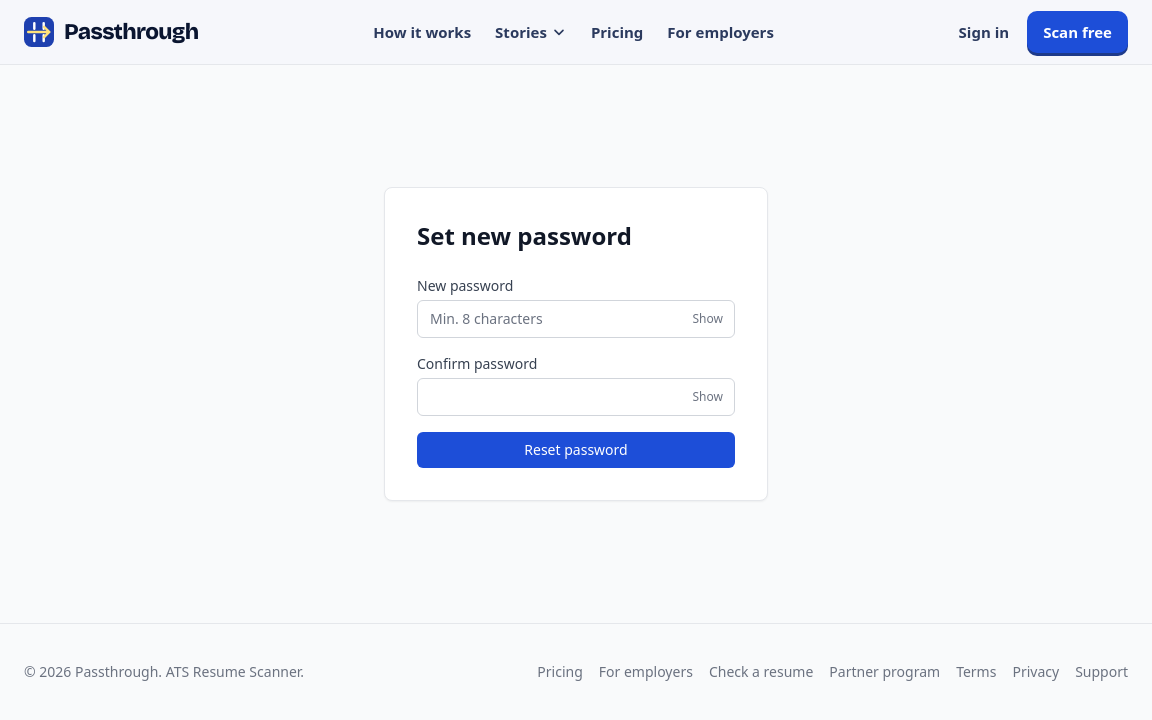
Test: ResetPassword — a link that dies after the page loaded (Auth round 9, B3) › swaps the form for "request a new one" when the server says the link is dead
Expected: the heading "Set new password" is shown, [417,219,632,252]
In the password field labelled "New password": [576, 319] box [417,300,735,338], type "correct-horse-battery-9"
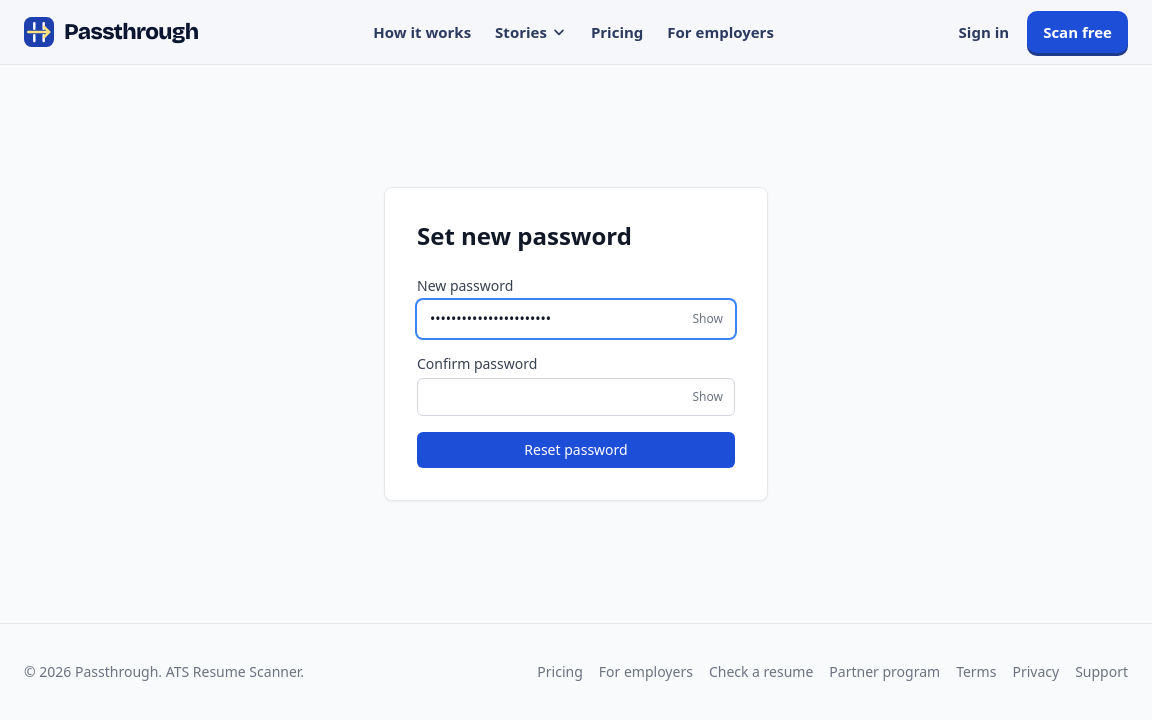
In the password field labelled "Confirm password": [576, 397] box [417,378,735,416], type "correct-horse-battery-9"
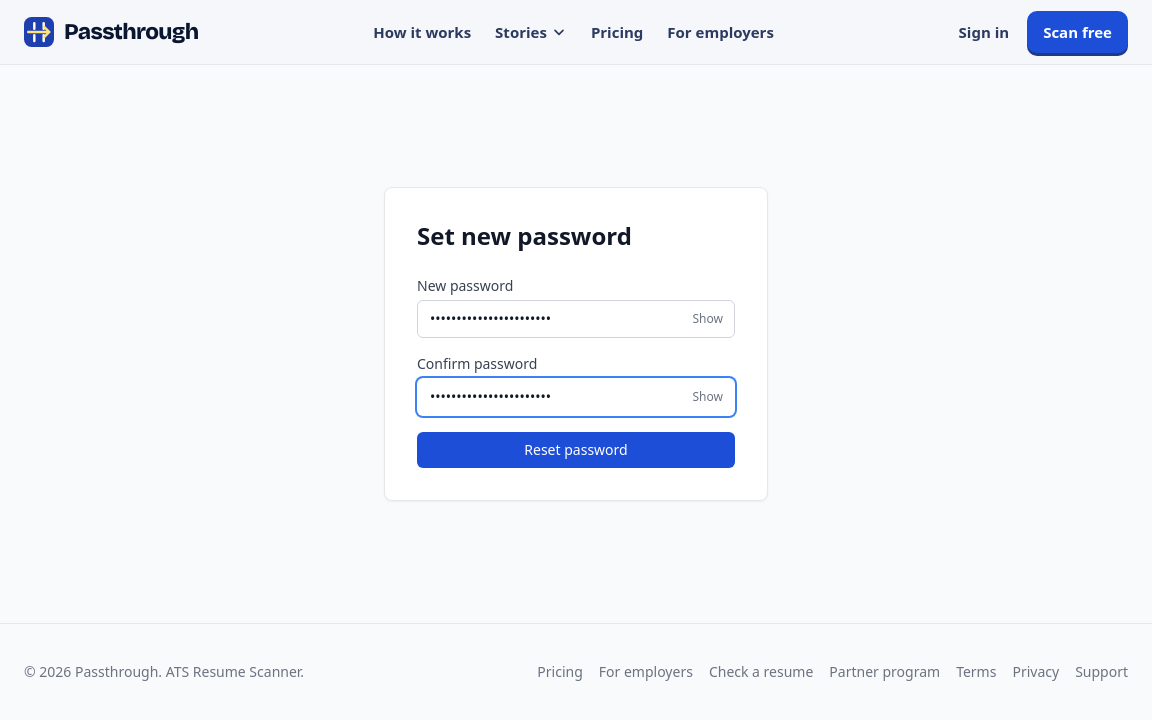
Click the button "Reset password": [576, 450] box [417,432,735,468]
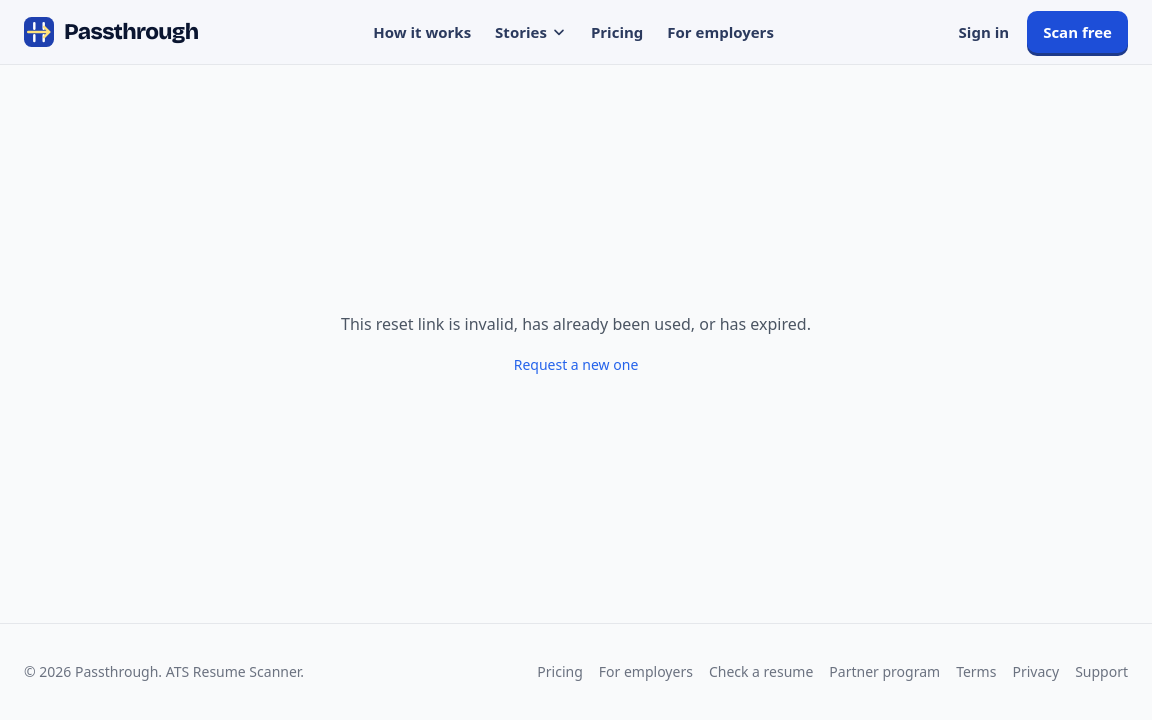
Now the text "invalid, has already been used, or has expired" is shown, box [341,313,811,335]
Now the link "Request a new one" is shown, box [514,355,638,374]
